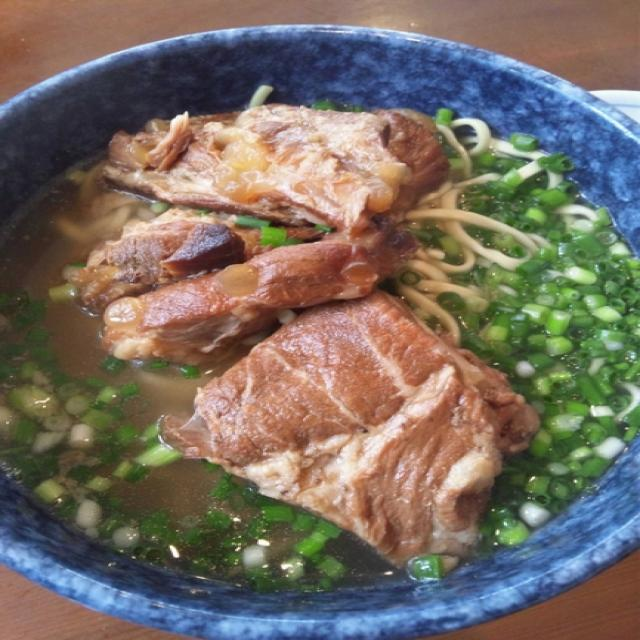鸡蛋料理: (187, 96, 633, 544)
